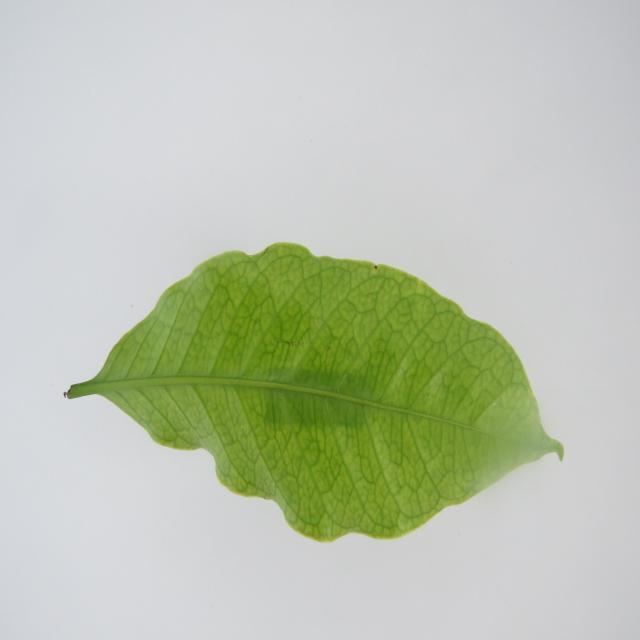DeficienciaNutricional-Calcio: (68, 243, 564, 542)
